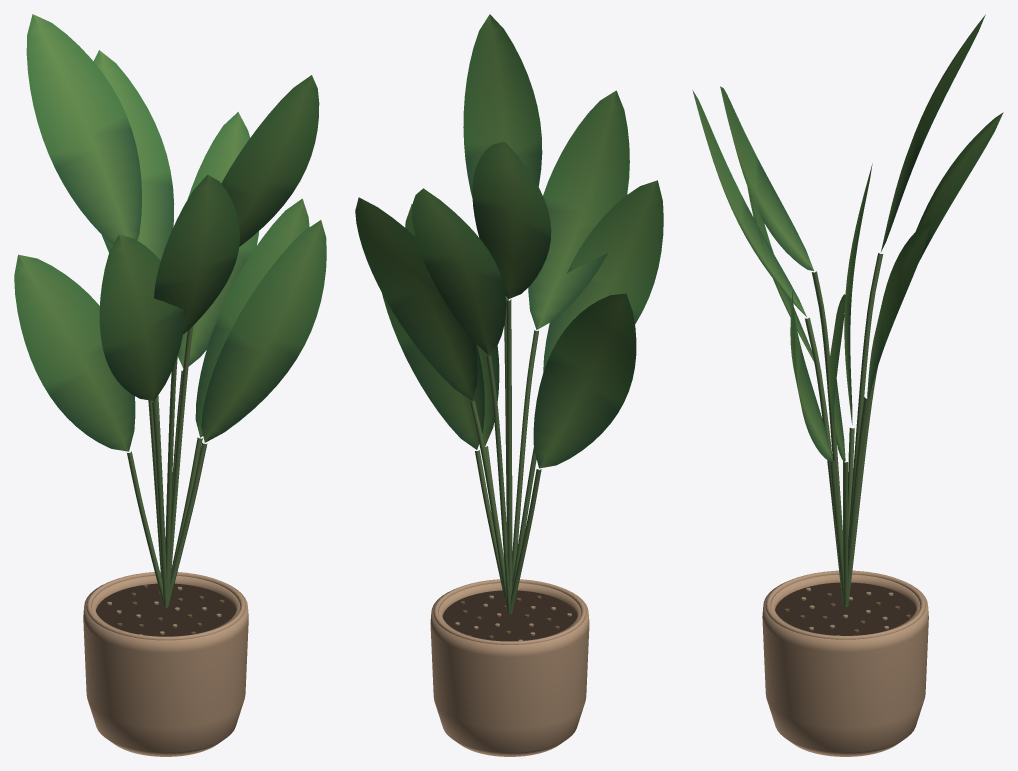
Rendered from officeBirdParadise.glb.
3 views of the same model, side by side, from view 1: azimuth 30°, elevation 25°; view 2: azimuth 150°, elevation 25°; view 3: azimuth 270°, elevation 25° (orthographic). The views are drawn at different scales.
Bounding box in the file's own units: 0.8296 × 1.91 × 0.7854.
